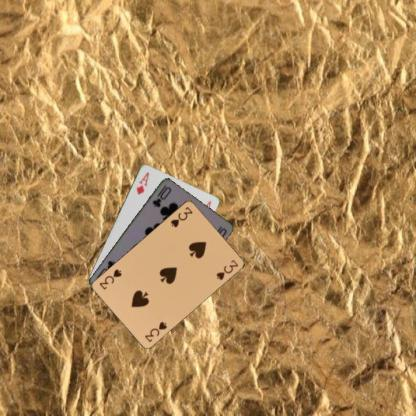10c: (150, 182, 172, 209)
3s: (142, 318, 168, 343), (168, 204, 194, 228)
Ad: (134, 170, 150, 196)
